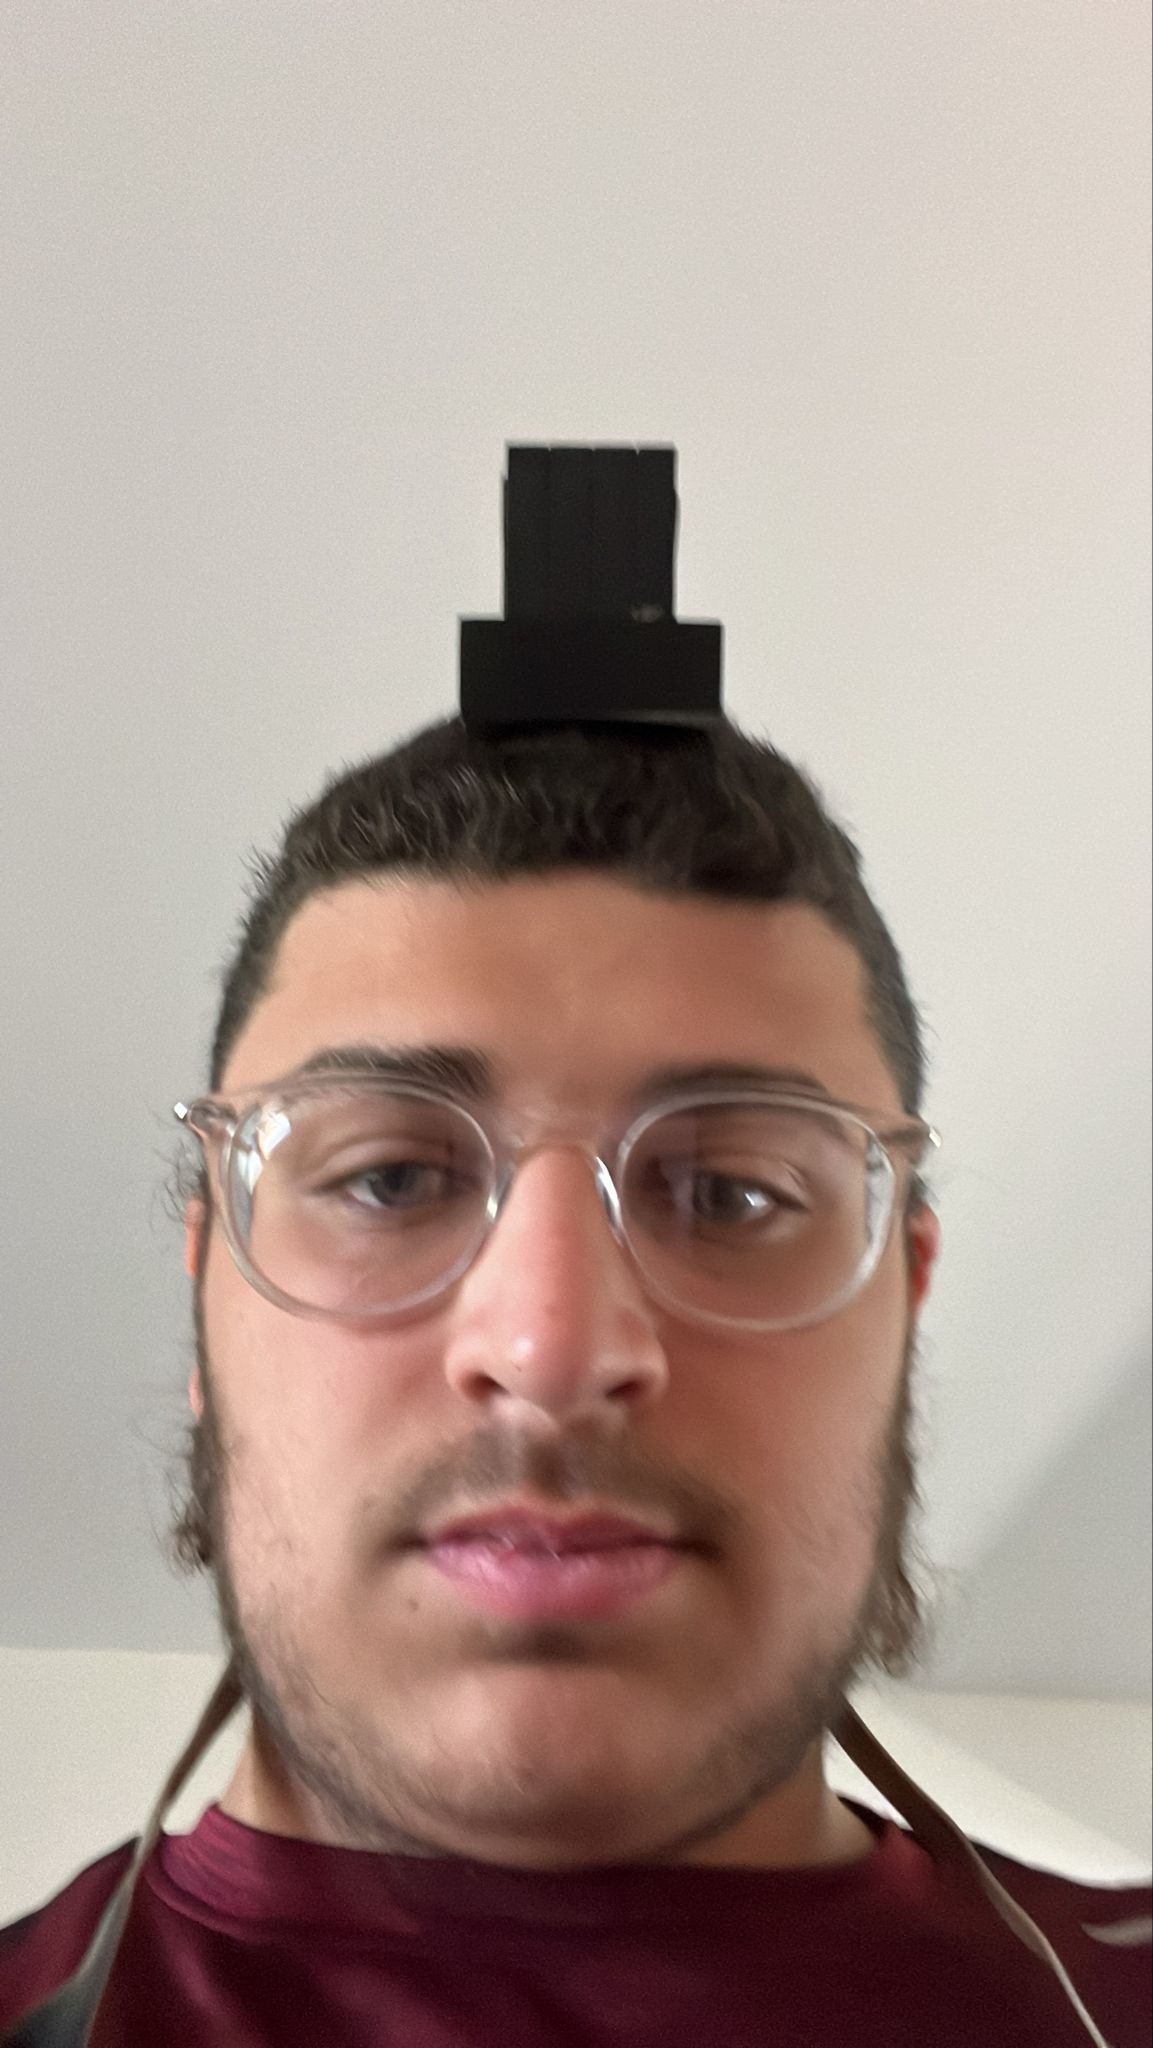tefillin: (454, 446, 724, 733)
